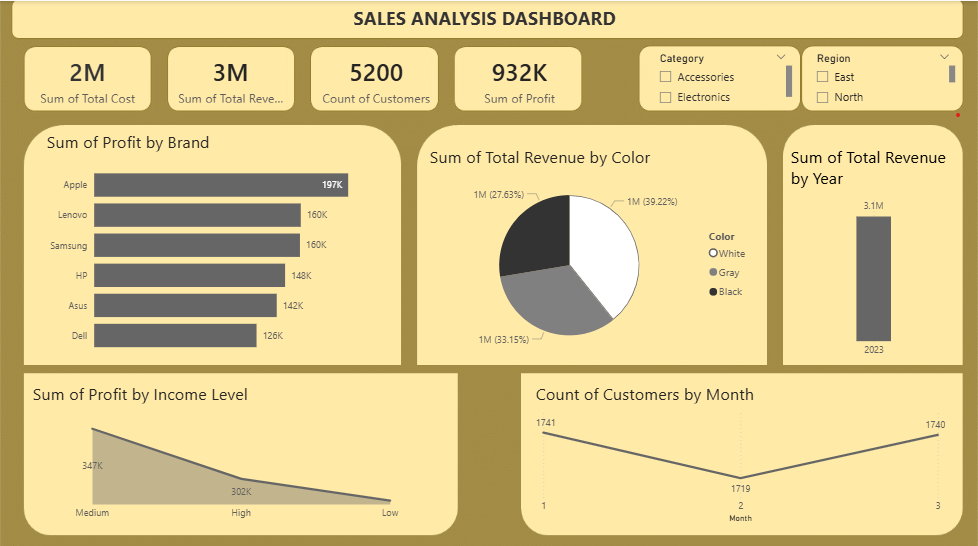

Layout of this report page (visuals, bound fields, positions):
{"tool":"powerbi","page":{"name":"Page 1","canvas":[1280,720],"ordinal":0},"visuals":[{"type":"textbox","box":[24.8,0,1219.4,50.9],"z":0},{"type":"barChart","fields":{"Y":["Sum(Sales.Profit)"],"Category":["Products.Brand"]},"box":[56.3,168.8,436.4,306],"z":1000},{"type":"pieChart","fields":{"Category":["Products.Color"],"Y":["Sum(Sales.Total Sales)"]},"box":[557.1,188,432.2,286.8],"z":2000},{"type":"clusteredColumnChart","fields":{"Y":["Sum(Sales.Total Sales)"],"Category":["Sales.Year"]},"box":[1030.5,188,225,286.8],"z":3000},{"type":"lineChart","fields":{"Y":["CountNonNull(Sales.Customers)"],"Category":["Sales.Month"]},"box":[697.1,498.1,546.1,189.4],"z":4000},{"type":"stackedAreaChart","fields":{"Category":["Customers.Income Level"],"Y":["Sum(Sales.Profit)"]},"box":[38.4,498.1,555.7,189.4],"z":5000},{"type":"card","fields":{"Values":["CountNonNull(Sales.Customers)"]},"box":[413,68.6,157.8,70],"z":6000},{"type":"card","fields":{"Values":["Sum(Sales.Profit)"]},"box":[607.9,68.6,145.5,70],"z":7000},{"type":"card","fields":{"Values":["Sum(Sales.Total Cost)"]},"box":[38.4,68.6,153.7,70],"z":8000},{"type":"card","fields":{"Values":["Sum(Sales.Total Sales)"]},"box":[223.7,68.6,156.4,70],"z":9000},{"type":"slicer","fields":{"Values":["Products.Category"]},"box":[850.8,61.7,190.7,81],"z":10000},{"type":"slicer","fields":{"Values":["Customers.Region"]},"box":[1056.6,61.7,199,76.8],"z":11000}]}

Visuals, with their boxes in screenshot pixels (x1, y1, x2, y2), scaled from the page's 1280x720 canvas onto the 978x546 screenshot:
textbox: BBox(19, 0, 951, 39)
barChart - Sum(Sales.Profit) x Products.Brand: BBox(43, 128, 376, 360)
pieChart - Products.Color x Sum(Sales.Total Sales): BBox(426, 143, 756, 360)
clusteredColumnChart - Sum(Sales.Total Sales) x Sales.Year: BBox(787, 143, 959, 360)
lineChart - CountNonNull(Sales.Customers) x Sales.Month: BBox(533, 378, 950, 521)
stackedAreaChart - Customers.Income Level x Sum(Sales.Profit): BBox(29, 378, 454, 521)
card - CountNonNull(Sales.Customers): BBox(316, 52, 436, 105)
card - Sum(Sales.Profit): BBox(464, 52, 576, 105)
card - Sum(Sales.Total Cost): BBox(29, 52, 147, 105)
card - Sum(Sales.Total Sales): BBox(171, 52, 290, 105)
slicer - Products.Category: BBox(650, 47, 796, 108)
slicer - Customers.Region: BBox(807, 47, 959, 105)
